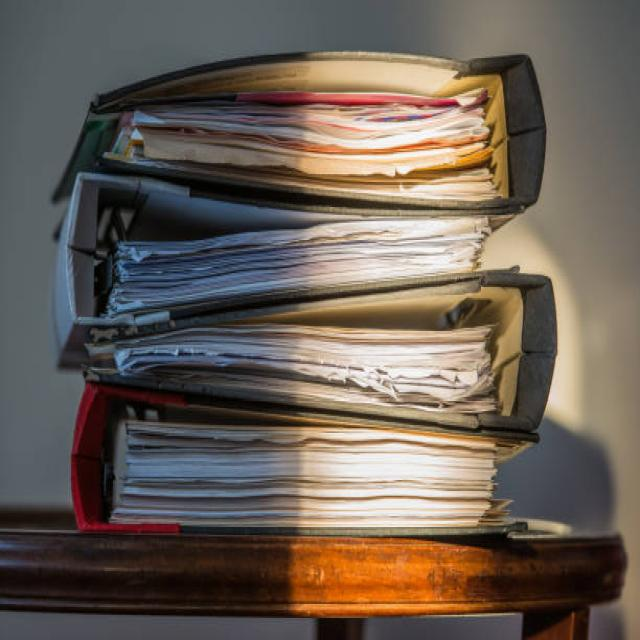electronic: (97, 408, 539, 528), (106, 72, 510, 196), (101, 214, 494, 316), (85, 320, 501, 416)
